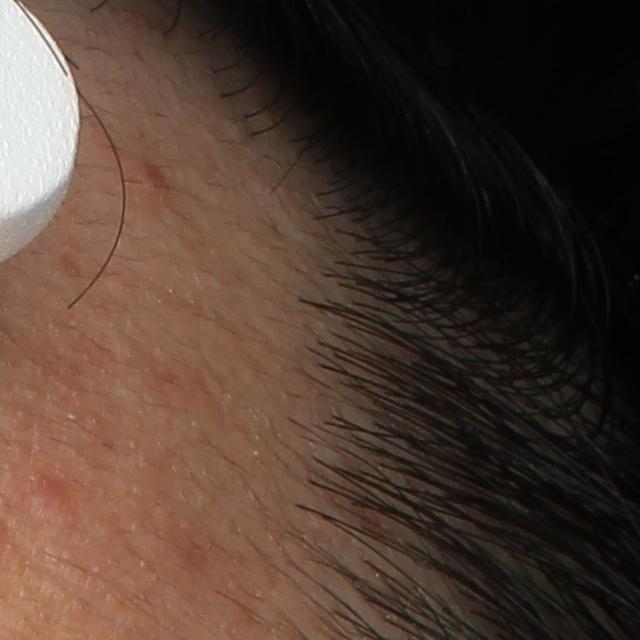papule: (25, 479, 66, 522), (133, 155, 173, 190)
